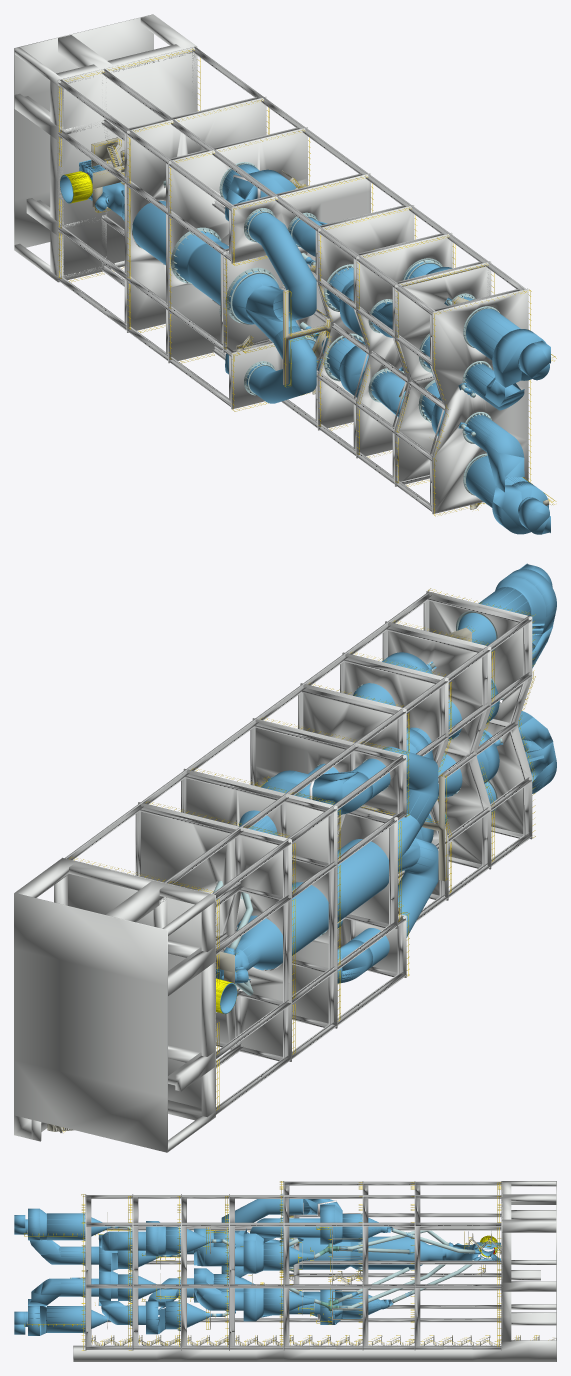
File: preheater-calciner.glb
The picture shows the model from 3 angles, top to bottom: view 1: azimuth 30°, elevation 25°; view 2: azimuth 150°, elevation 25°; view 3: azimuth 270°, elevation 25°; orthographic projection. The views are drawn at different scales.
Parts seen in each view (by area): view 1: SHELL_08_CBD0CC, SHELL_04_2874B2, SHELL_06_7C7F7E, SHELL_00_FFAB00, SHELL_02_7FB0B2, SHELL_01_817F68; view 2: SHELL_08_CBD0CC, SHELL_06_7C7F7E, SHELL_04_2874B2, SHELL_00_FFAB00, SHELL_01_817F68, SHELL_02_7FB0B2; view 3: SHELL_04_2874B2, SHELL_06_7C7F7E, SHELL_08_CBD0CC, SHELL_00_FFAB00, SHELL_02_7FB0B2, SHELL_01_817F68, SHELL_05_327662.
Part boxes in pixels (x1,y1,x2,y2): SHELL_08_CBD0CC: [14, 14, 528, 513]; SHELL_04_2874B2: [60, 160, 550, 534]; SHELL_06_7C7F7E: [58, 47, 526, 511]; SHELL_00_FFAB00: [58, 48, 556, 516]; SHELL_02_7FB0B2: [120, 162, 499, 495]; SHELL_01_817F68: [91, 137, 549, 509]; SHELL_08_CBD0CC: [14, 591, 532, 1152]; SHELL_06_7C7F7E: [65, 591, 531, 1114]; SHELL_04_2874B2: [216, 563, 556, 1013]; SHELL_00_FFAB00: [62, 588, 535, 1131]; SHELL_01_817F68: [47, 627, 471, 1132]; SHELL_02_7FB0B2: [213, 611, 503, 995]; SHELL_04_2874B2: [14, 1199, 500, 1335]; SHELL_06_7C7F7E: [85, 1181, 501, 1349]; SHELL_08_CBD0CC: [73, 1181, 556, 1361]; SHELL_00_FFAB00: [24, 1181, 538, 1350]; SHELL_02_7FB0B2: [70, 1193, 475, 1333]; SHELL_01_817F68: [27, 1212, 556, 1345]; SHELL_05_327662: [319, 1243, 358, 1310].
Bounding box in the file's own units: 26.38 × 39.2 × 140.
